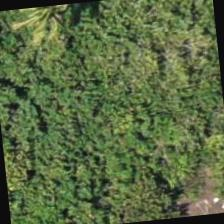Kelapa_Sawit: (3, 1, 98, 66)
